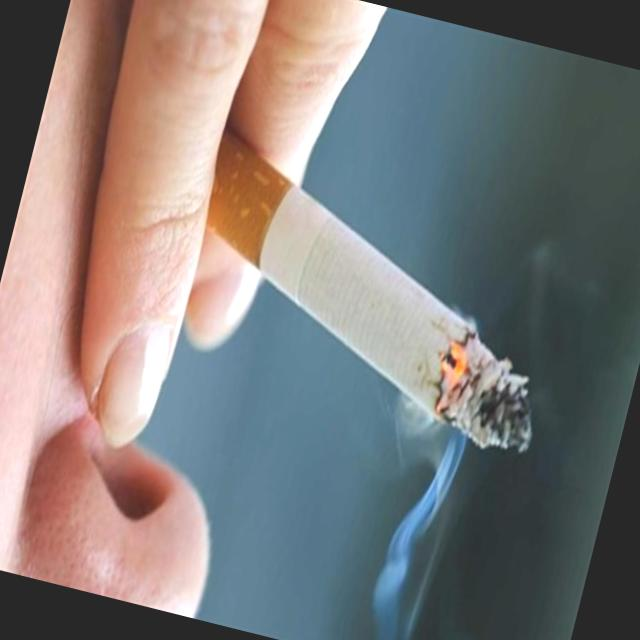smoke: (161, 128, 588, 462)
